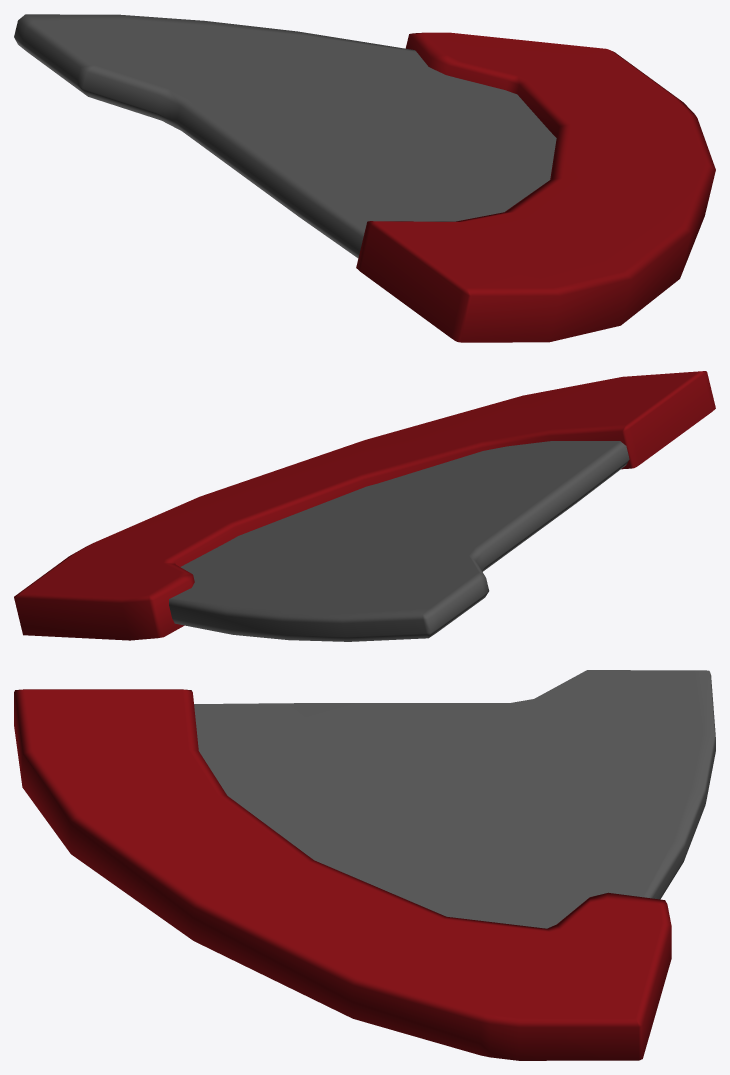
Rendered from Ship_enemy_03_Wing_L.fbx.
The picture shows the model from 3 angles, top to bottom: view 1: azimuth 30°, elevation 25°; view 2: azimuth 150°, elevation 25°; view 3: azimuth 270°, elevation 25°; orthographic projection. The views are drawn at different scales.
Parts seen in each view (by area): view 1: Ship_enemy_03_Wing_L; view 2: Ship_enemy_03_Wing_L; view 3: Ship_enemy_03_Wing_L.
Boxes of the visible parts, x1,y1,x2,y2 form: Ship_enemy_03_Wing_L: (14, 14, 715, 342); Ship_enemy_03_Wing_L: (14, 371, 715, 641); Ship_enemy_03_Wing_L: (14, 670, 715, 1060).
Bounding box in the file's own units: 210 × 66.99 × 261.
